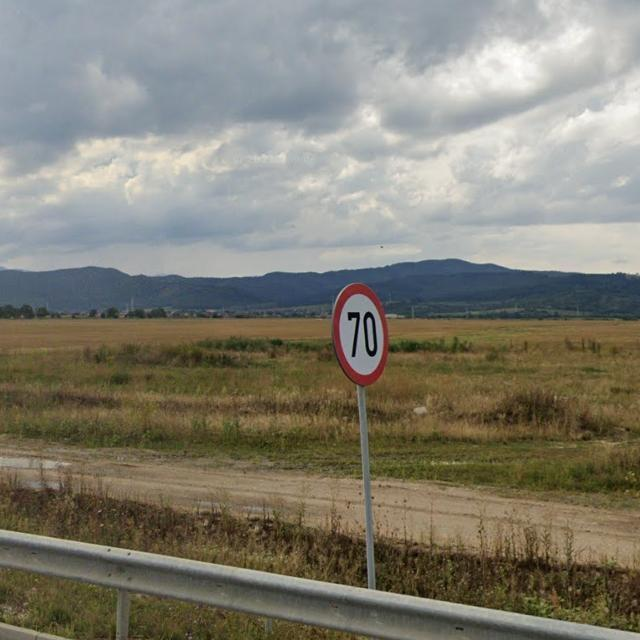forb_speed_over_70: (331, 280, 389, 384)
